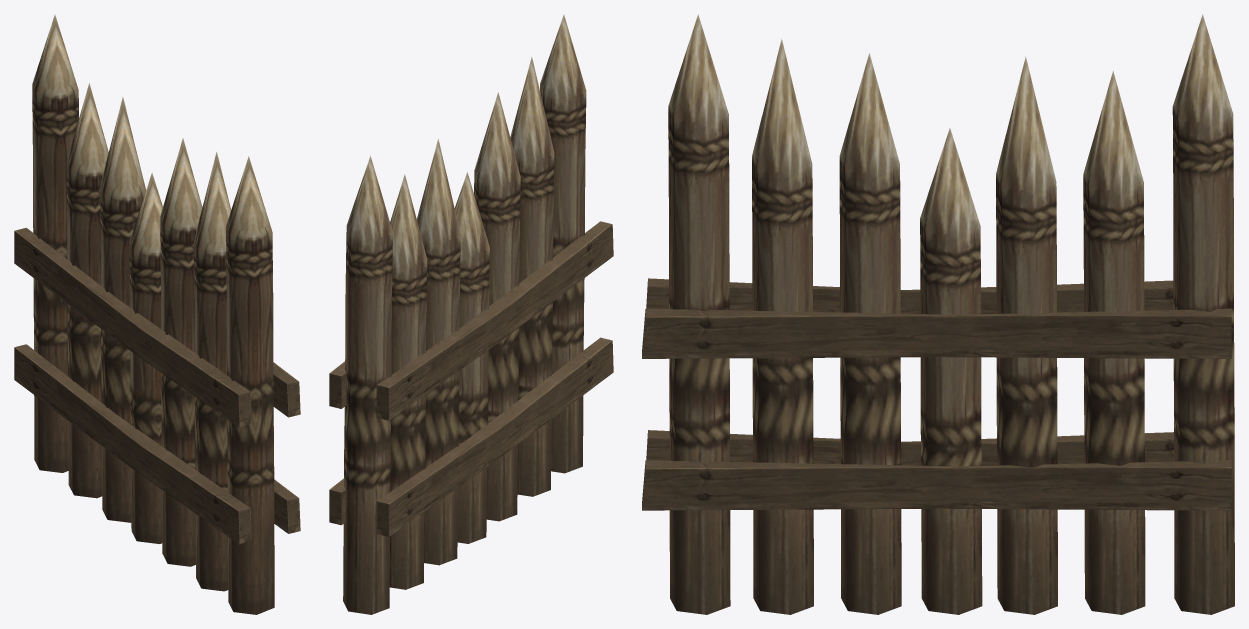
The model's file is 4008_Item_zhalan_1.FBX.
3 views of the same model, side by side, from view 1: azimuth 30°, elevation 25°; view 2: azimuth 150°, elevation 25°; view 3: azimuth 270°, elevation 25° (orthographic). The views are drawn at different scales.
Parts seen in each view (by area): view 1: 4008_Item_zhalan_1; view 2: 4008_Item_zhalan_1; view 3: 4008_Item_zhalan_1.
Part boxes in pixels (x1=…): 4008_Item_zhalan_1: x1=14, y1=14, x2=300, y2=614; 4008_Item_zhalan_1: x1=329, y1=14, x2=613, y2=614; 4008_Item_zhalan_1: x1=642, y1=14, x2=1234, y2=614.
Size of the model in its own units: 87.5 by 607 by 556.
